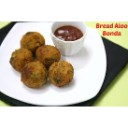bonda: (19, 62, 46, 89), (9, 46, 34, 71), (49, 61, 75, 84), (20, 30, 44, 51), (37, 45, 61, 66)
